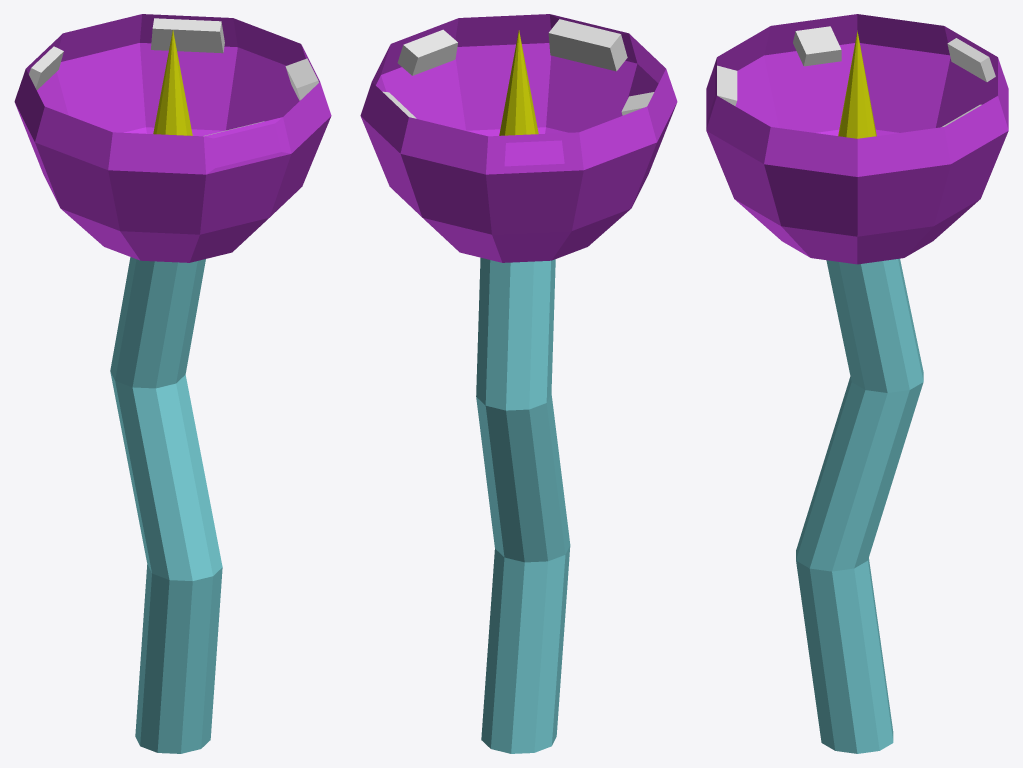
Rendered from zuborost2.fbx.
3 renders of one model, left to right at view 1: azimuth 30°, elevation 25°; view 2: azimuth 150°, elevation 25°; view 3: azimuth 270°, elevation 25°, orthographic.
Visible parts, largest first — view 1: Cube; view 2: Cube; view 3: Cube.
Boxes of the visible parts, box(x1,y1,x2,y2) form: Cube: box(14, 14, 331, 753); Cube: box(360, 14, 677, 753); Cube: box(706, 14, 1008, 753).
Bounding box in the file's own units: 91.88 × 226 × 87.38.
